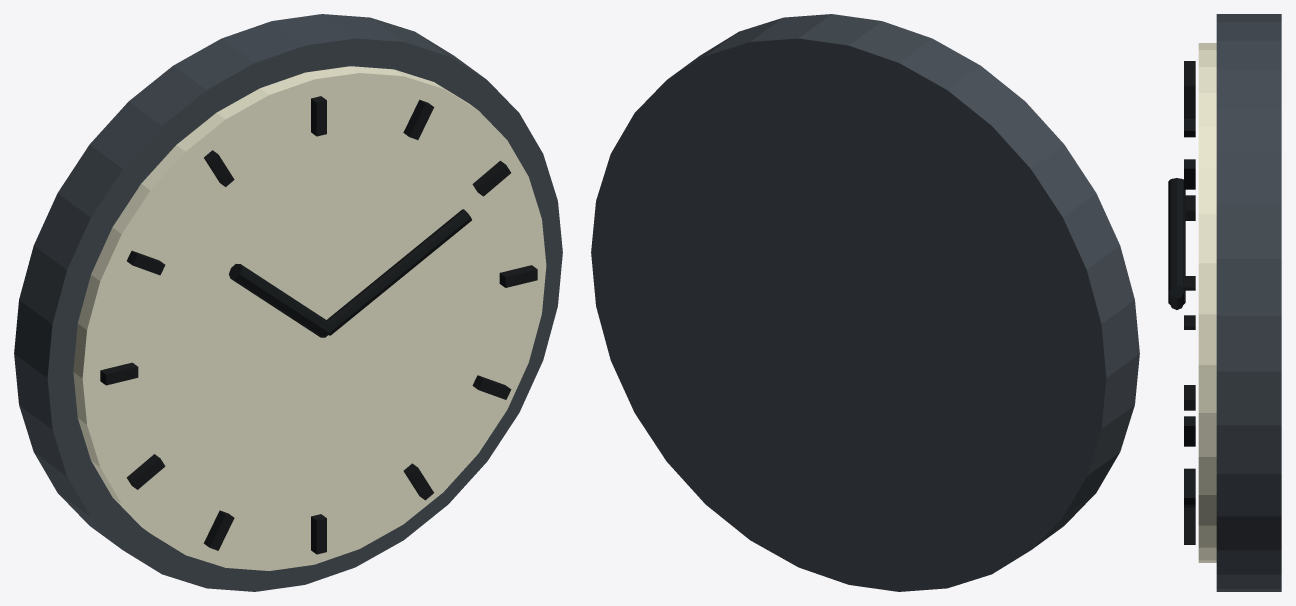
Rendered from WallClock.fbx.
3 renders of one model, left to right at view 1: azimuth 30°, elevation 25°; view 2: azimuth 150°, elevation 25°; view 3: azimuth 270°, elevation 25°, orthographic. The views are drawn at different scales.
Visible parts, largest first — view 1: WallClock; view 2: WallClock; view 3: WallClock.
Part boxes in pixels (x1=…): WallClock: x1=14, y1=14, x2=562, y2=591; WallClock: x1=591, y1=14, x2=1139, y2=591; WallClock: x1=1168, y1=14, x2=1281, y2=591.
Size of the model in its own units: 40 by 40 by 7.85.
Materials: 1 (1 with a texture image).
